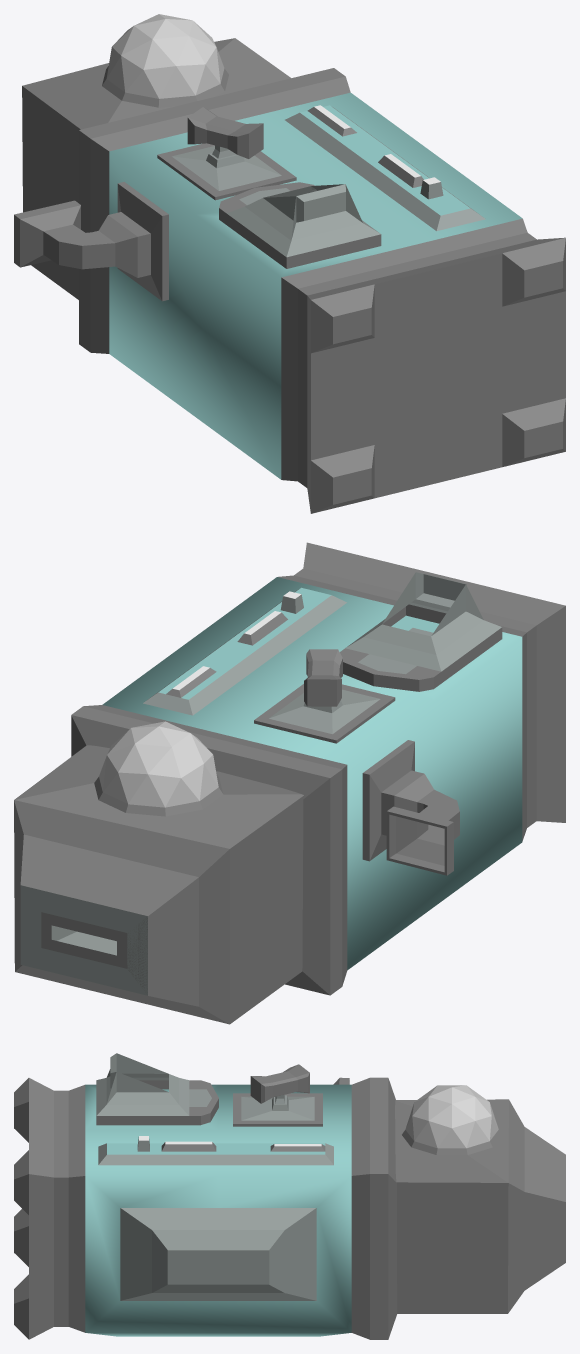
The model's file is Machine_graine_arbre.fbx.
3 renders of one model, top to bottom at view 1: azimuth 30°, elevation 25°; view 2: azimuth 150°, elevation 25°; view 3: azimuth 270°, elevation 25°, orthographic. The views are drawn at different scales.
Parts seen in each view (by area): view 1: Base_machine_graine, Cuve_graine_machine, conteneur essence de vie, compartiment_sorti_graine_machine, Deco_lumiere, Plane.008; view 2: Base_machine_graine, Cuve_graine_machine, compartiment_sorti_graine_machine, conteneur essence de vie, Deco_lumiere, Plane.008; view 3: Base_machine_graine, Cuve_graine_machine, compartiment_sorti_graine_machine, Deco_lumiere, Plane.008.
Part boxes in pixels (x1,y1,x2,y2): Base_machine_graine: (79, 68, 565, 513); Cuve_graine_machine: (22, 14, 290, 299); conteneur essence de vie: (14, 181, 168, 301); compartiment_sorti_graine_machine: (219, 182, 381, 268); Deco_lumiere: (285, 105, 485, 231); Plane.008: (187, 107, 263, 158); Base_machine_graine: (71, 542, 565, 995); Cuve_graine_machine: (14, 721, 304, 1024); compartiment_sorti_graine_machine: (340, 572, 502, 691); conteneur essence de vie: (362, 740, 459, 875); Deco_lumiere: (143, 587, 346, 715); Plane.008: (304, 649, 342, 706); Base_machine_graine: (14, 1077, 397, 1339); Cuve_graine_machine: (395, 1085, 565, 1313); compartiment_sorti_graine_machine: (96, 1053, 218, 1125); Deco_lumiere: (98, 1136, 333, 1165); Plane.008: (250, 1064, 309, 1103).
Size of the model in its own units: 325 by 231 by 527.
